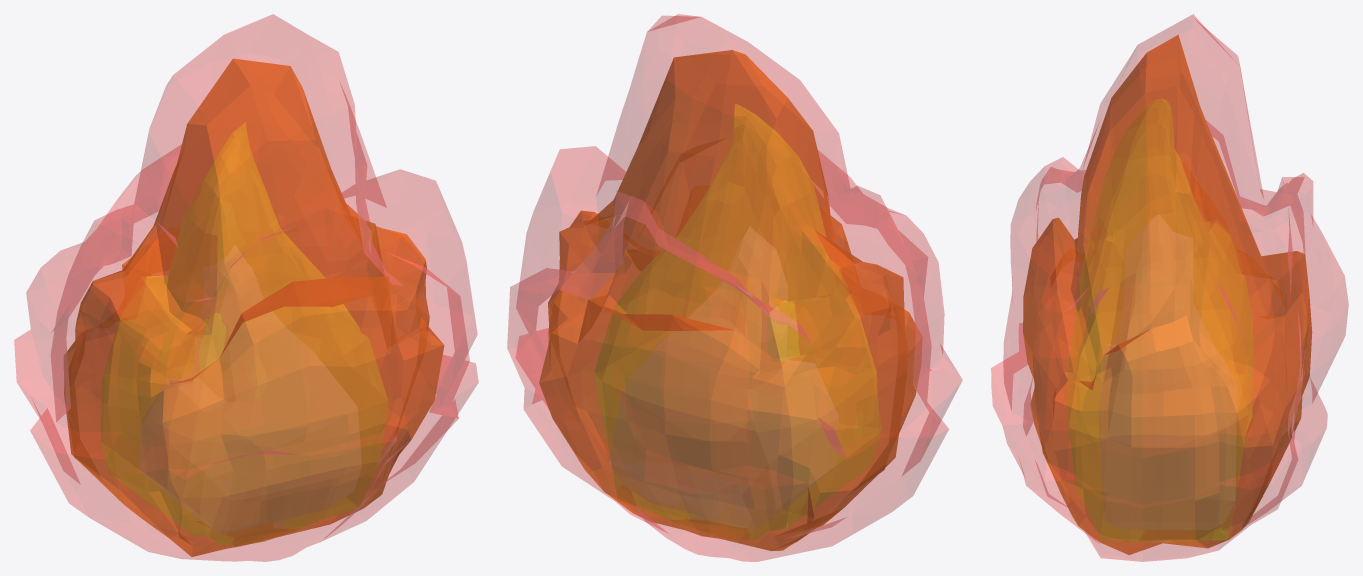
The model's file is campfire_flame.glb.
3 renders of one model, left to right at view 1: azimuth 30°, elevation 25°; view 2: azimuth 150°, elevation 25°; view 3: azimuth 270°, elevation 25°, orthographic. The views are drawn at different scales.
Visible parts, largest first — view 1: polySurface5, polySurface3, polySurface4; view 2: polySurface5, polySurface3, polySurface4; view 3: polySurface5, polySurface3, polySurface4.
Boxes of the visible parts, <box> form: polySurface5: <box>14,14,478,561</box>; polySurface3: <box>64,58,444,556</box>; polySurface4: <box>101,122,388,545</box>; polySurface5: <box>507,14,962,561</box>; polySurface3: <box>539,50,922,550</box>; polySurface4: <box>594,104,882,539</box>; polySurface5: <box>991,14,1348,561</box>; polySurface3: <box>1023,35,1312,554</box>; polySurface4: <box>1067,98,1253,542</box>.
Bounding box in the file's own units: 1.19 × 1.36 × 0.8381.
